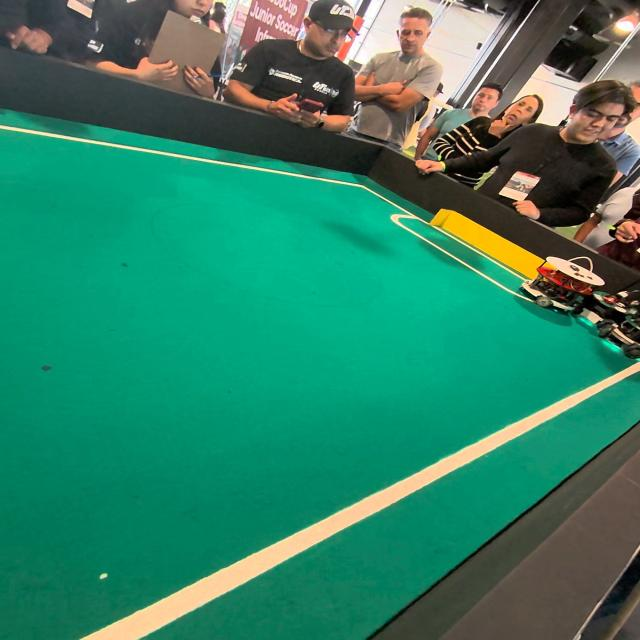Robot: (577, 279, 638, 367), (518, 257, 582, 320)
